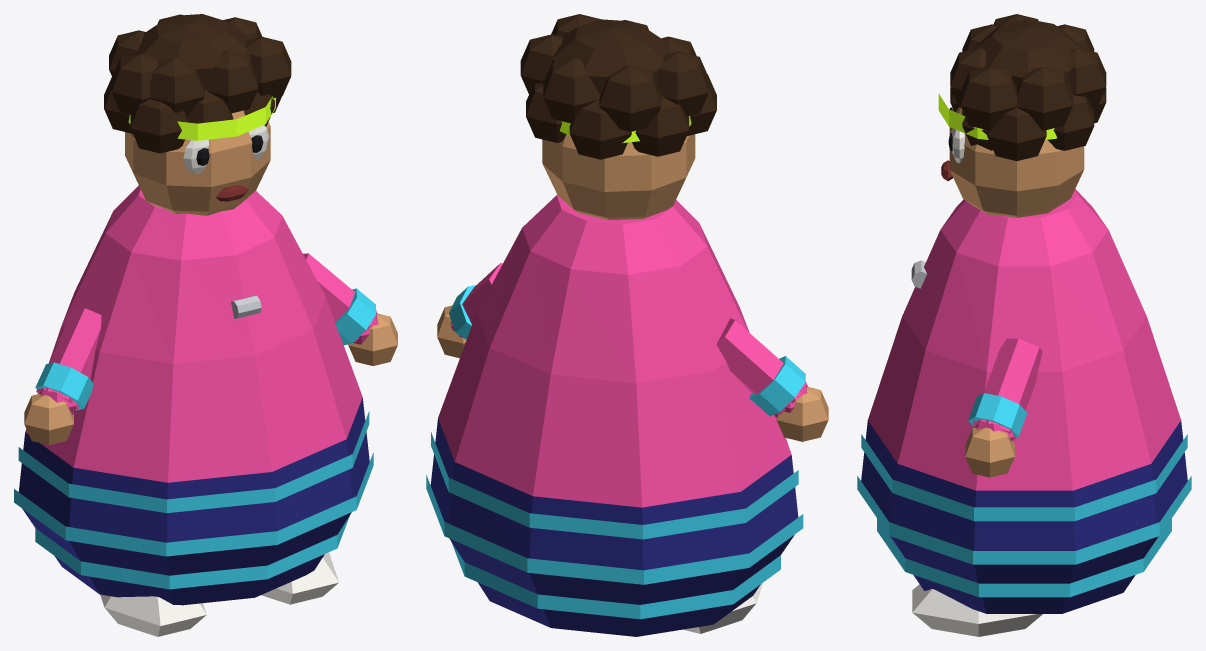
The model's file is npc_profe_rulo.glb.
The picture shows the model from 3 angles, left to right: view 1: azimuth 30°, elevation 25°; view 2: azimuth 150°, elevation 25°; view 3: azimuth 270°, elevation 25°; orthographic projection. The views are drawn at different scales.
Parts seen in each view (by area): view 1: body_rulo_tank, body_rulo_tights, hair_rulo_hair, body_rulo_stripe, head_skin_arena, legs_white, arms_rulo_tank, arms_skin_arena, arms_rulo_stripe, hair_rulo_headband, face_white, body_whistle_steel; view 2: body_rulo_tank, body_rulo_tights, hair_rulo_hair, body_rulo_stripe, head_skin_arena, arms_rulo_tank, arms_skin_arena, arms_rulo_stripe, legs_white; view 3: body_rulo_tank, body_rulo_tights, hair_rulo_hair, body_rulo_stripe, head_skin_arena, legs_white, arms_rulo_tank, arms_skin_arena, arms_rulo_stripe, hair_rulo_headband.
Part boxes in pixels (x1,y1,x2,y2): body_rulo_tank: [25, 185, 362, 482]; body_rulo_tights: [18, 398, 369, 605]; hair_rulo_hair: [104, 14, 291, 153]; body_rulo_stripe: [14, 411, 373, 589]; head_skin_arena: [125, 110, 270, 215]; legs_white: [100, 552, 338, 636]; arms_rulo_tank: [36, 253, 378, 414]; arms_skin_arena: [24, 313, 397, 444]; arms_rulo_stripe: [35, 288, 376, 410]; hair_rulo_headband: [128, 96, 275, 140]; face_white: [183, 125, 269, 173]; body_whistle_steel: [231, 295, 261, 318]; body_rulo_tank: [438, 195, 791, 507]; body_rulo_tights: [430, 418, 798, 636]; hair_rulo_hair: [520, 14, 716, 159]; body_rulo_stripe: [426, 432, 803, 619]; head_skin_arena: [542, 134, 695, 220]; arms_rulo_tank: [450, 263, 807, 417]; arms_skin_arena: [437, 305, 828, 441]; arms_rulo_stripe: [448, 285, 805, 416]; legs_white: [683, 582, 763, 633]; body_rulo_tank: [868, 189, 1180, 490]; body_rulo_tights: [861, 420, 1187, 613]; hair_rulo_hair: [950, 14, 1106, 161]; body_rulo_stripe: [857, 434, 1191, 597]; head_skin_arena: [949, 107, 1084, 217]; legs_white: [912, 584, 1042, 636]; arms_rulo_tank: [973, 338, 1042, 441]; arms_skin_arena: [965, 427, 1014, 477]; arms_rulo_stripe: [968, 393, 1027, 437]; hair_rulo_headband: [938, 93, 1056, 139].
Size of the model in its own units: 1.13 by 1.64 by 0.8748.
